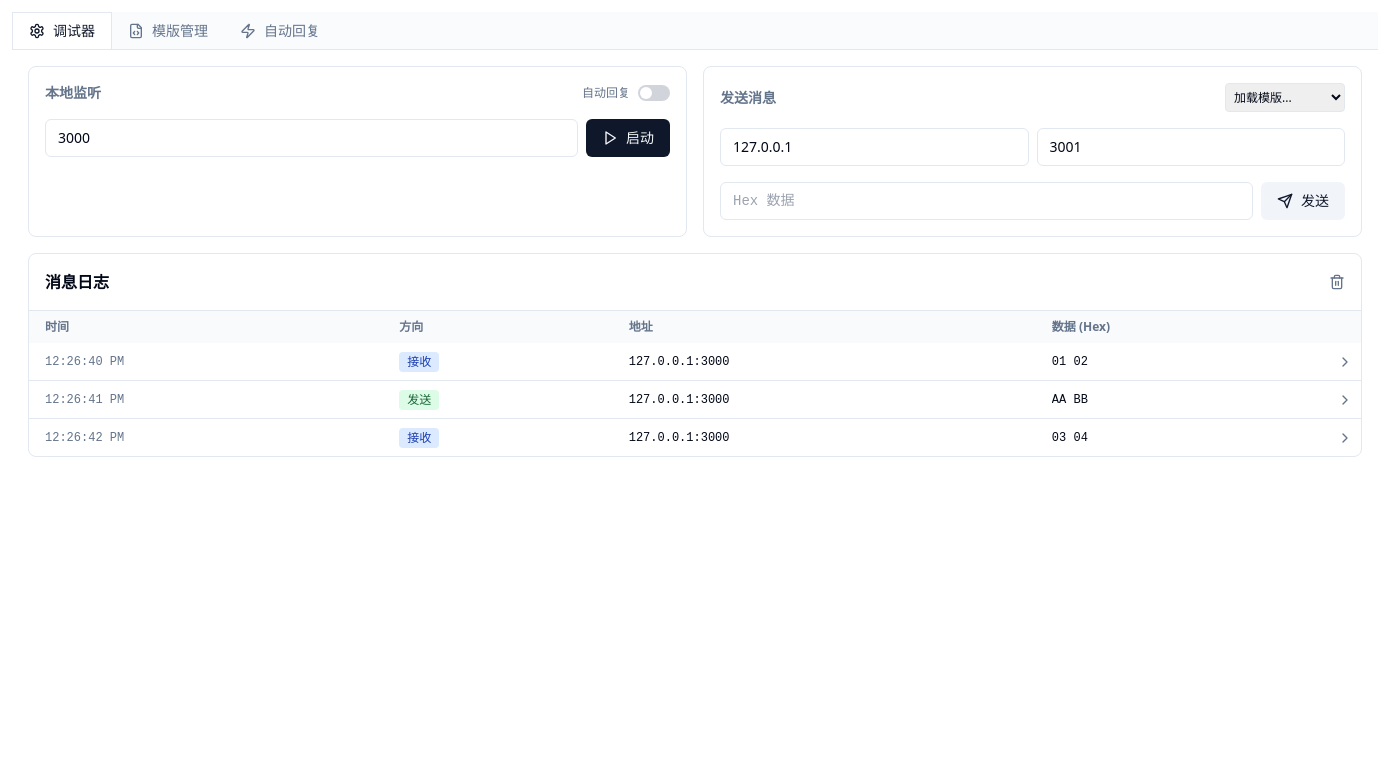
it: UdpDebugger › matches based on feature field (Match Ranges)
Check: the text "03 04" is shown, box [1052,430,1088,444]
Click the text "03 04" at {"x": 695, "y": 437}, box [29,418,1361,456]
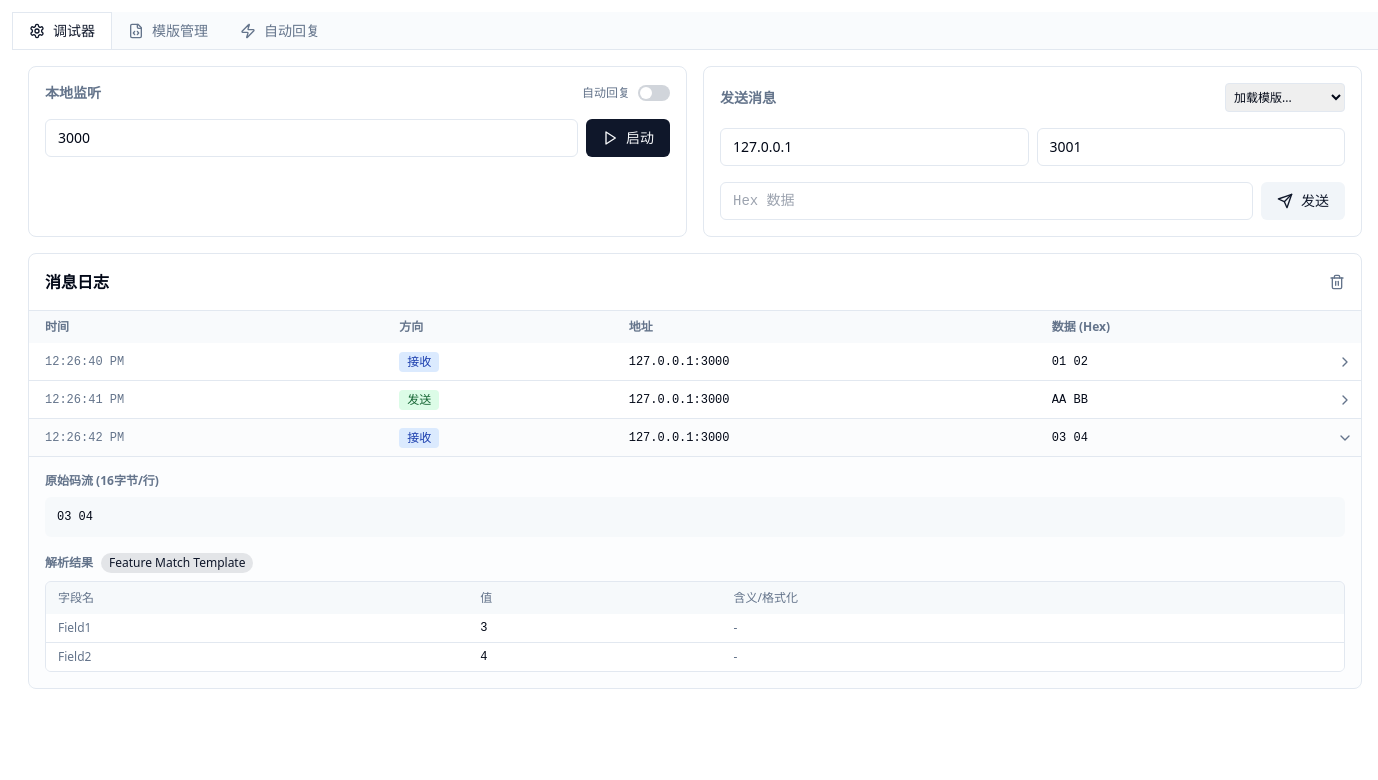
Check: the text "Feature Match Template" is shown, box [101,553,254,573]
